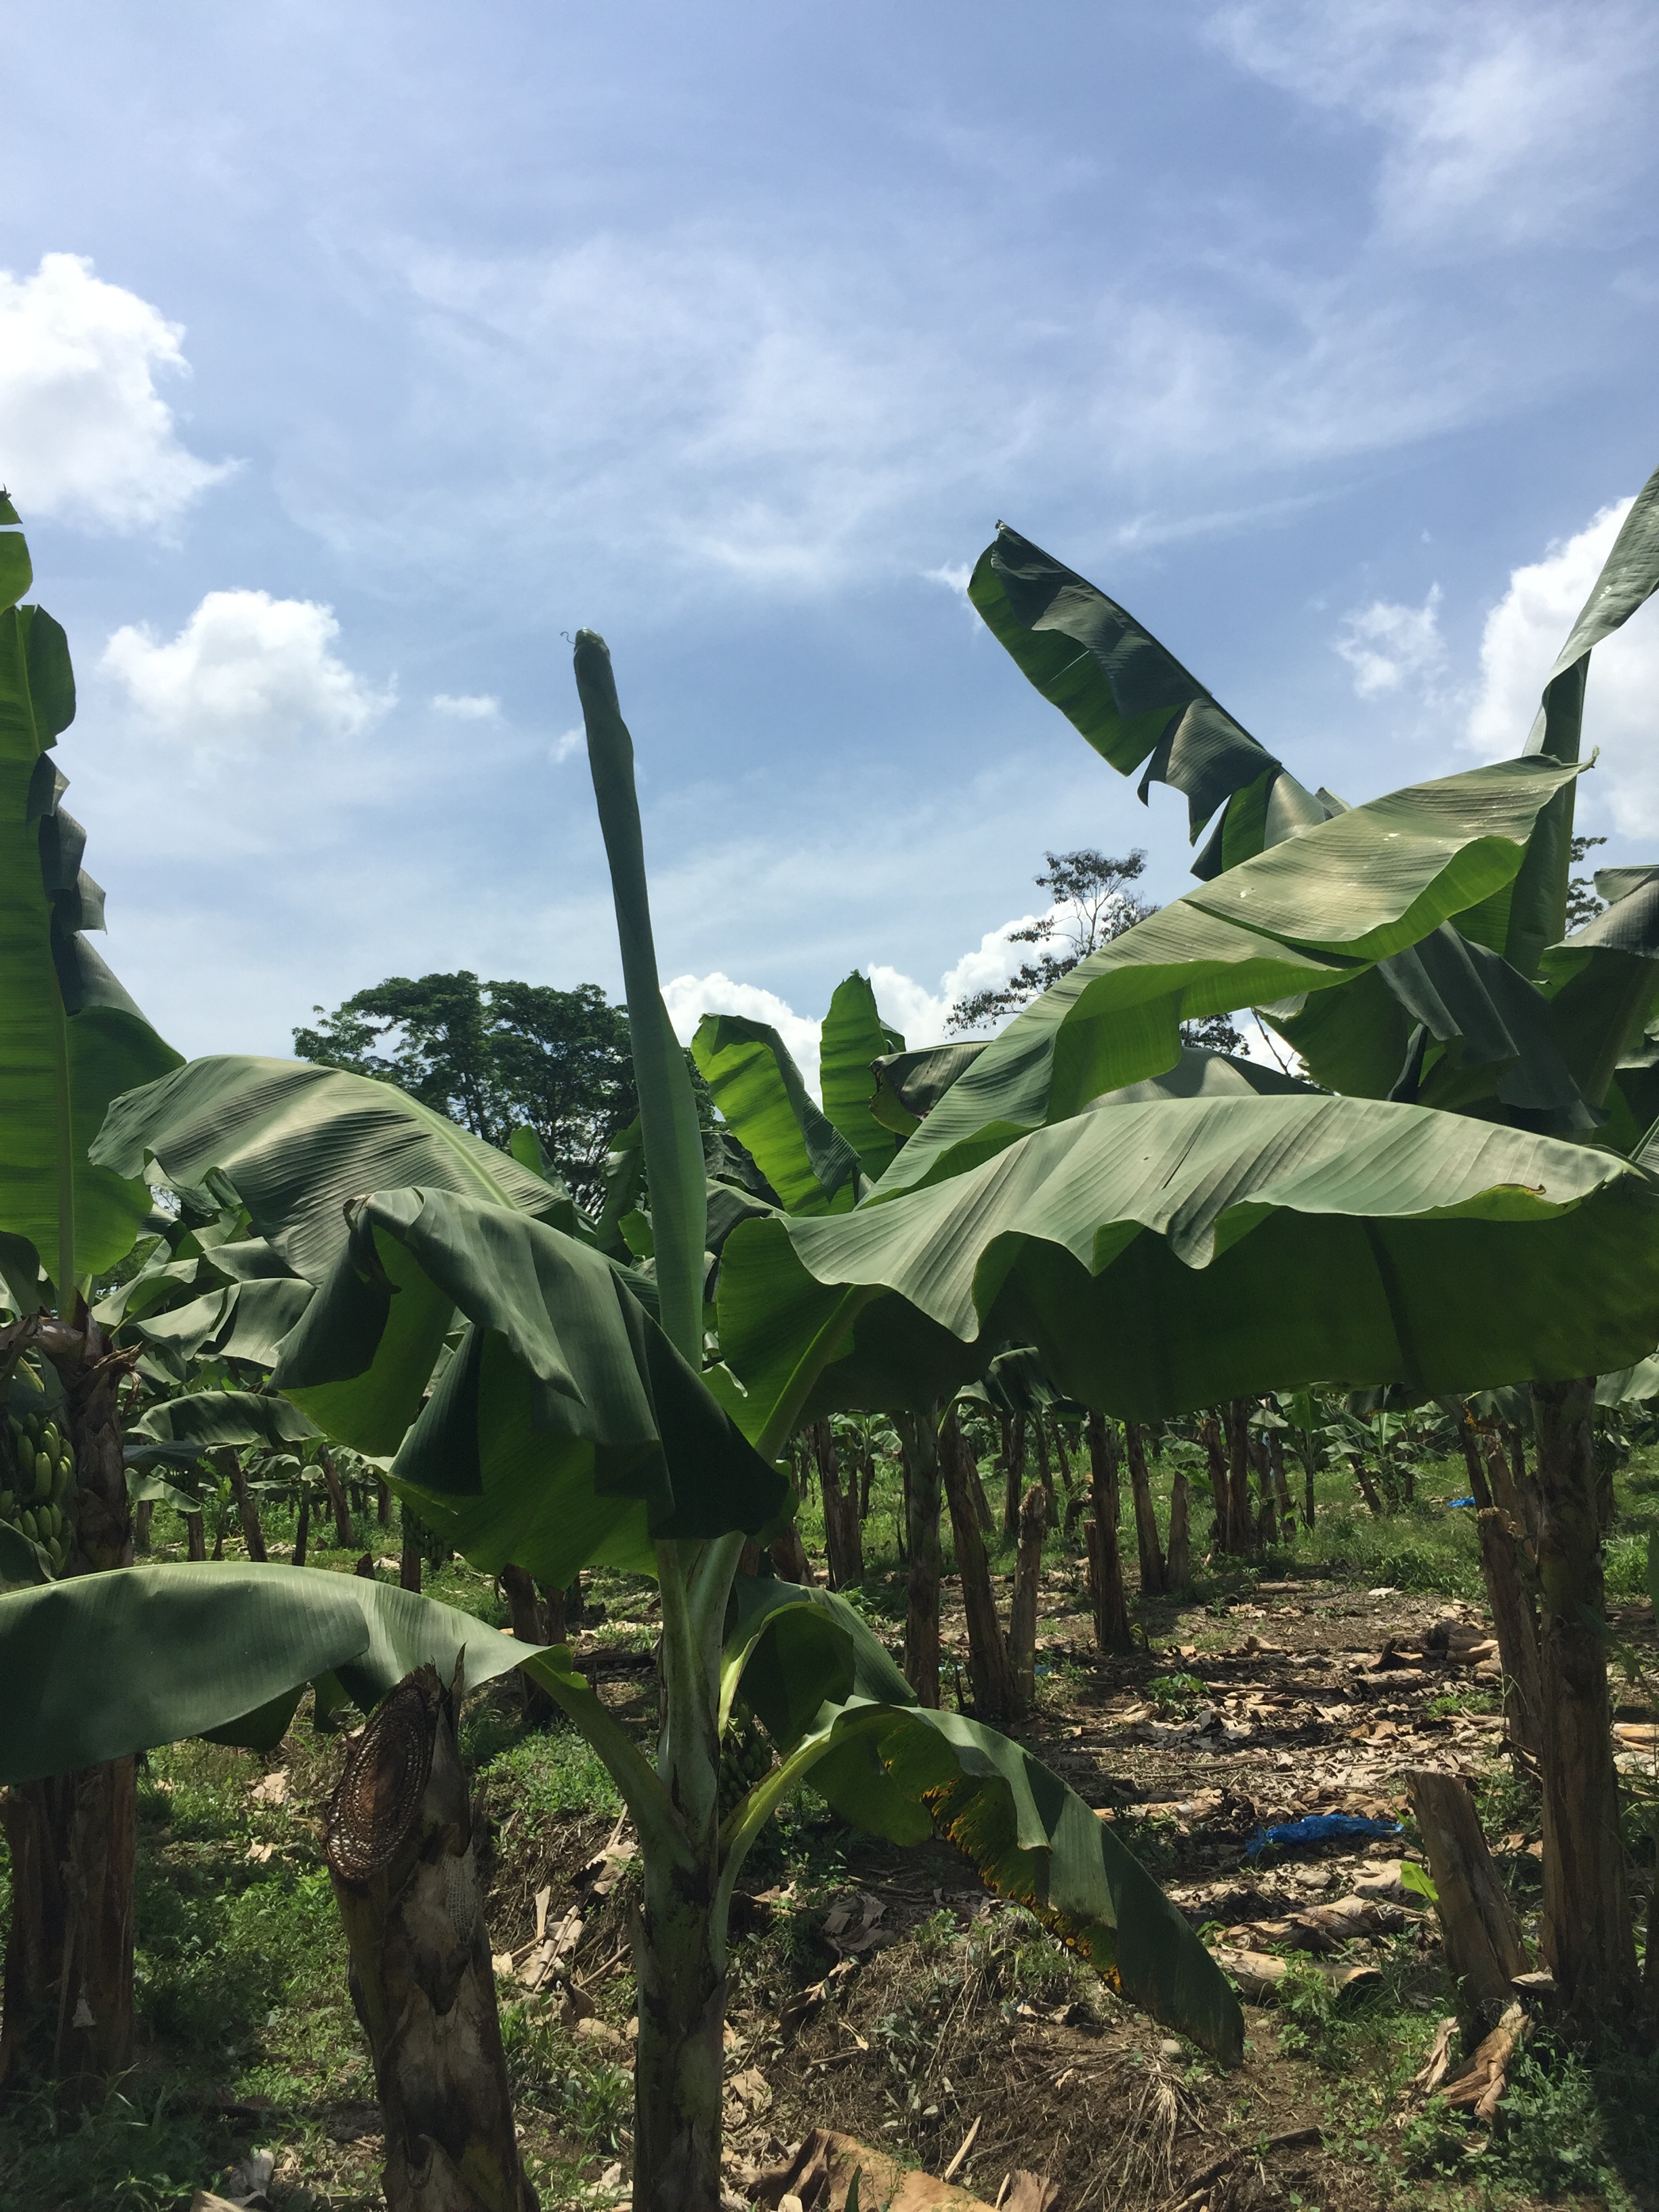candleleafs: (565, 627, 709, 1374)
